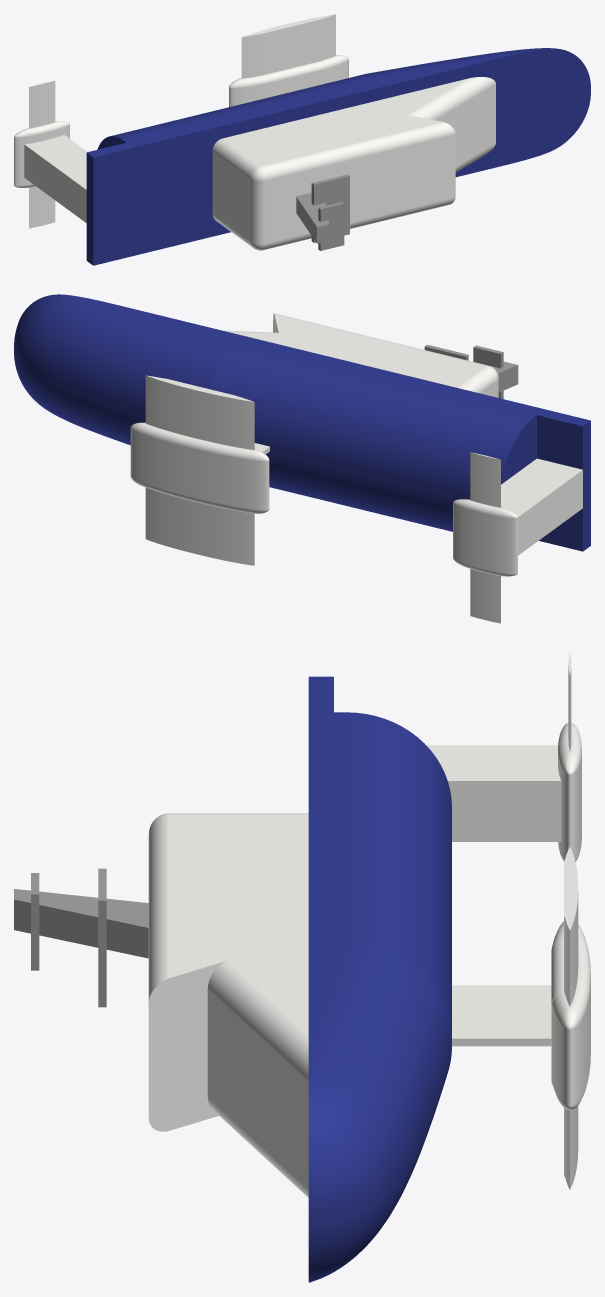
Rendered from hydrofoil.obj.
The picture shows the model from 3 angles, top to bottom: view 1: azimuth 30°, elevation 25°; view 2: azimuth 150°, elevation 25°; view 3: azimuth 270°, elevation 25°; orthographic projection. The views are drawn at different scales.
Visible parts, largest first — view 1: hull, cockpit, FrontFoil, rearFoil, mast; view 2: hull, FrontFoil, rearFoil, cockpit, mast; view 3: hull, cockpit, FrontFoil, rearFoil, mast.
Part boxes in pixels (x1=…): hull: x1=86, y1=48, x2=590, y2=265; cockpit: x1=212, y1=77, x2=495, y2=250; FrontFoil: x1=229, y1=14, x2=348, y2=106; rearFoil: x1=14, y1=80, x2=87, y2=228; mast: x1=296, y1=174, x2=349, y2=250; hull: x1=14, y1=294, x2=590, y2=551; FrontFoil: x1=130, y1=375, x2=269, y2=565; rearFoil: x1=453, y1=452, x2=582, y2=623; cockpit: x1=223, y1=313, x2=498, y2=397; mast: x1=424, y1=344, x2=518, y2=398; hull: x1=308, y1=676, x2=451, y2=1282; cockpit: x1=148, y1=813, x2=308, y2=1197; FrontFoil: x1=452, y1=847, x2=590, y2=1189; rearFoil: x1=426, y1=653, x2=581, y2=861; mast: x1=14, y1=868, x2=148, y2=1007.
Bounding box in the file's own units: 12.7 × 3.45 × 6.85.
